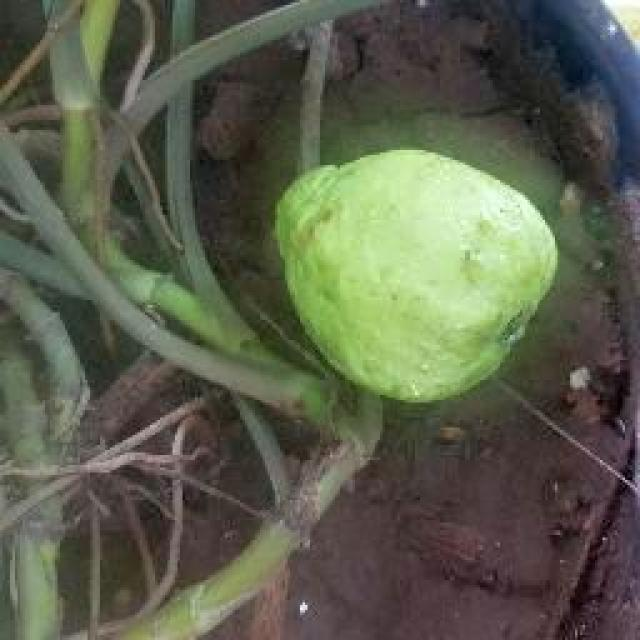Good_Guava: (265, 145, 562, 408)
